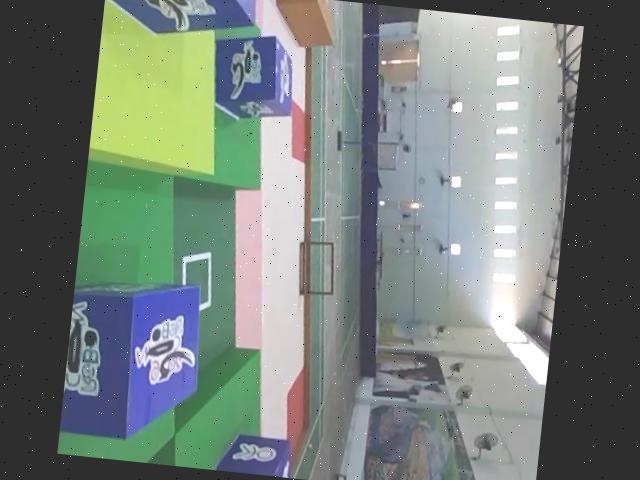R1 Blue: (59, 272, 207, 445), (206, 30, 297, 125), (101, 0, 255, 42)
R2 Real Blue: (213, 428, 295, 478)
